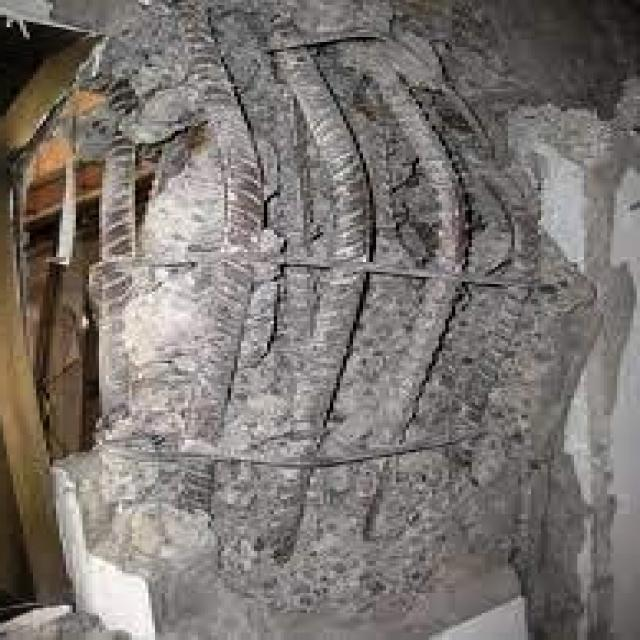Buckling_Beam: (17, 4, 631, 640)
